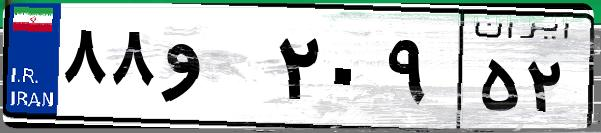0: (330, 28, 385, 110)
2: (270, 28, 330, 110), (525, 38, 570, 115)
5: (475, 38, 525, 113)
8: (57, 26, 110, 100), (110, 28, 158, 98)
9: (385, 28, 445, 110)
و: (158, 20, 270, 120)
